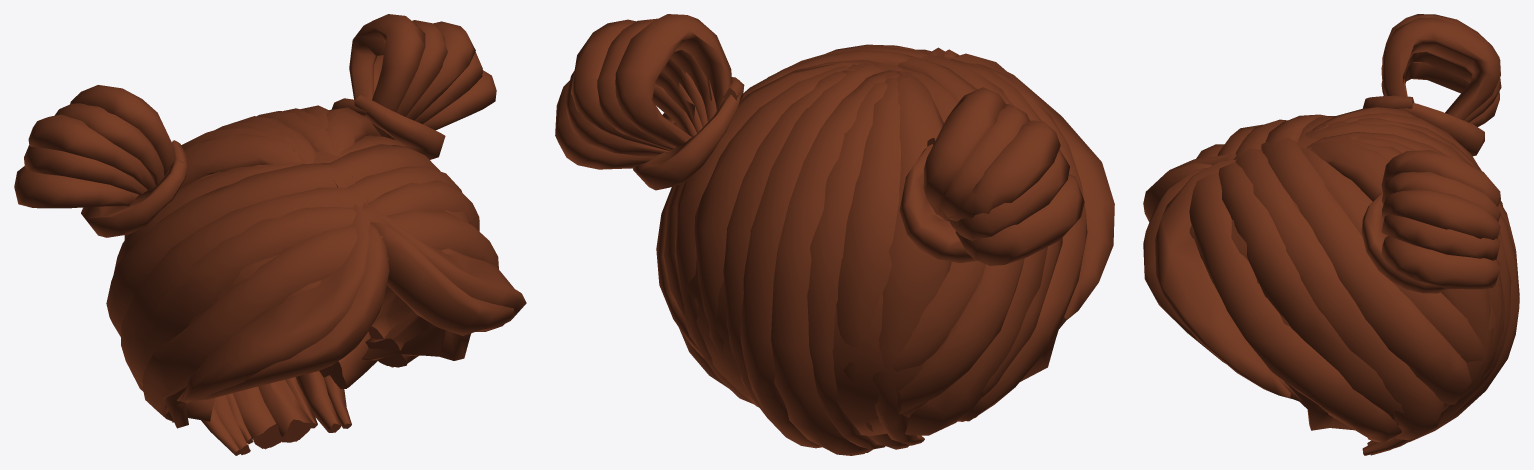
The model's file is hair-5-18b4d0a2.glb.
3 views of the same model, side by side, from view 1: azimuth 30°, elevation 25°; view 2: azimuth 150°, elevation 25°; view 3: azimuth 270°, elevation 25° (orthographic). The views are drawn at different scales.
Visible parts, largest first — view 1: hair_5.001; view 2: hair_5.001; view 3: hair_5.001.
Boxes of the visible parts, x1,y1,x2,y2 form: hair_5.001: (14,14,526,455); hair_5.001: (555,14,1114,455); hair_5.001: (1143,14,1519,455).
Bounding box in the file's own units: 2.62 × 2.01 × 1.94.
